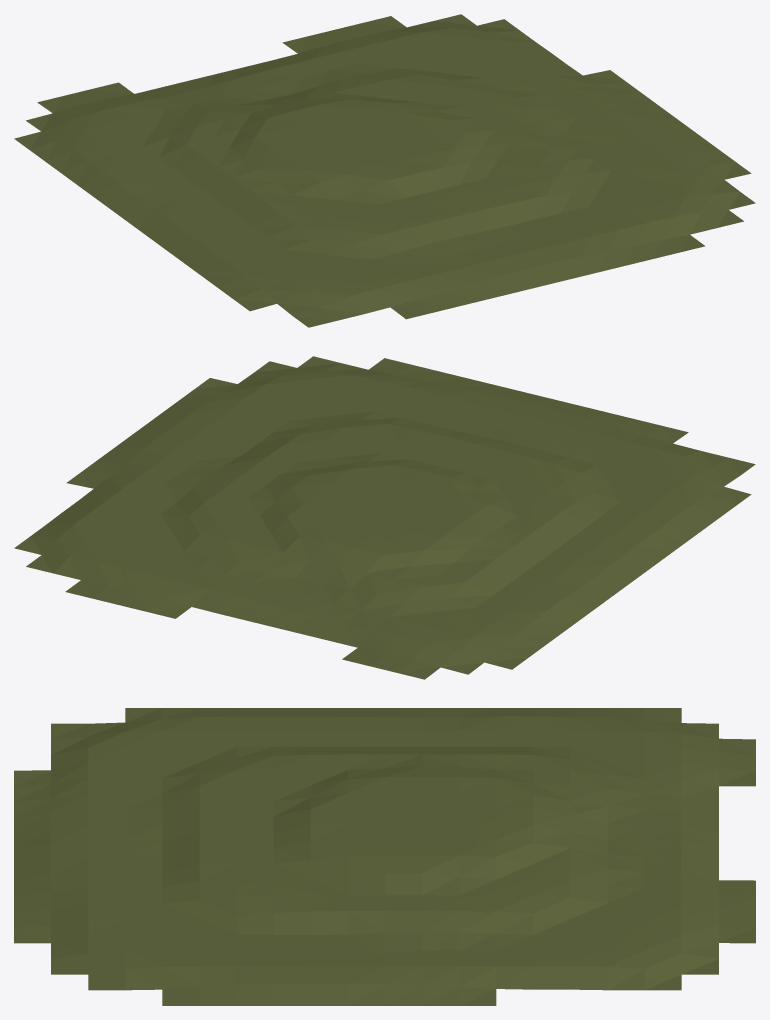
Rendered from SM_Env_GroundMounds_10.gltf.
3 renders of one model, top to bottom at view 1: azimuth 30°, elevation 25°; view 2: azimuth 150°, elevation 25°; view 3: azimuth 270°, elevation 25°, orthographic. The views are drawn at different scales.
Parts seen in each view (by area): view 1: SM_Env_GroundMounds_10; view 2: SM_Env_GroundMounds_10; view 3: SM_Env_GroundMounds_10.
Part boxes in pixels (x1,y1,x2,y2): SM_Env_GroundMounds_10: (14,14,755,327); SM_Env_GroundMounds_10: (14,356,755,679); SM_Env_GroundMounds_10: (14,708,755,1005).
Bounding box in the file's own units: 7.74 × 0.2998 × 8.14.
Materials: 1 (1 with a texture image).
